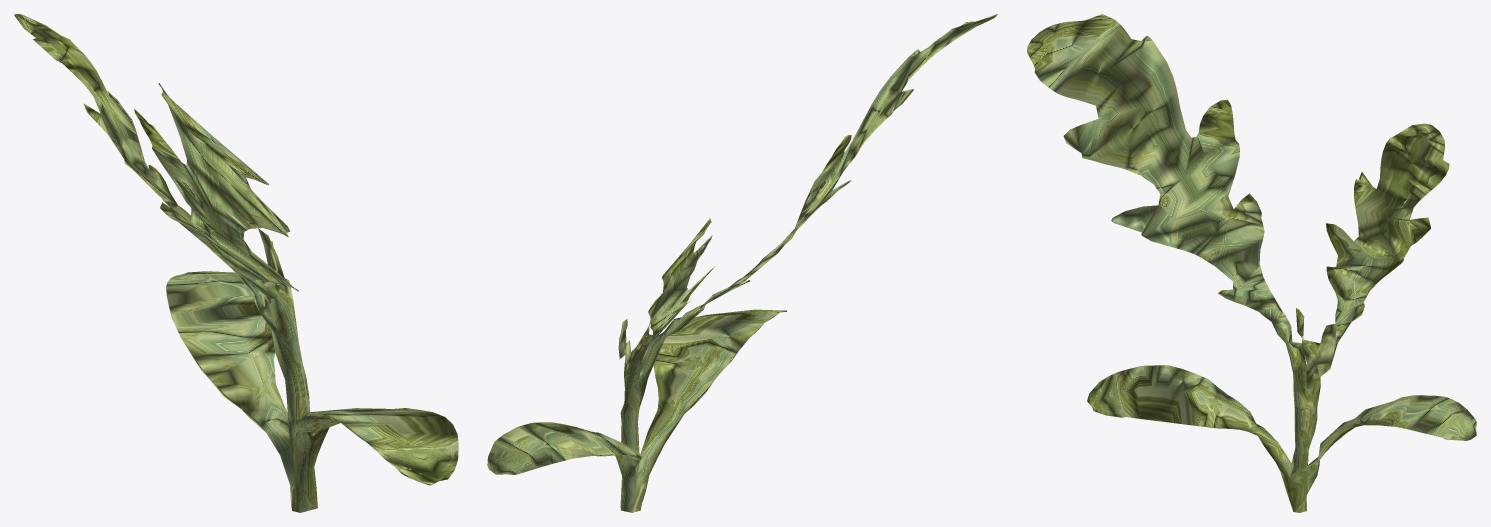
The model's file is lingcao_ninglu_sprout.obj.
The picture shows the model from 3 angles, left to right: view 1: azimuth 30°, elevation 25°; view 2: azimuth 150°, elevation 25°; view 3: azimuth 270°, elevation 25°; orthographic projection. The views are drawn at different scales.
Visible parts, largest first — view 1: lingcao_ninglu_sprout; view 2: lingcao_ninglu_sprout; view 3: lingcao_ninglu_sprout.
Boxes of the visible parts, x1=… form: lingcao_ninglu_sprout: x1=14, y1=14, x2=458, y2=512; lingcao_ninglu_sprout: x1=487, y1=14, x2=997, y2=512; lingcao_ninglu_sprout: x1=1027, y1=14, x2=1476, y2=512.
Bounding box in the file's own units: 0.0546 × 0.085 × 0.0867.
Materials: 1 (1 with a texture image).
